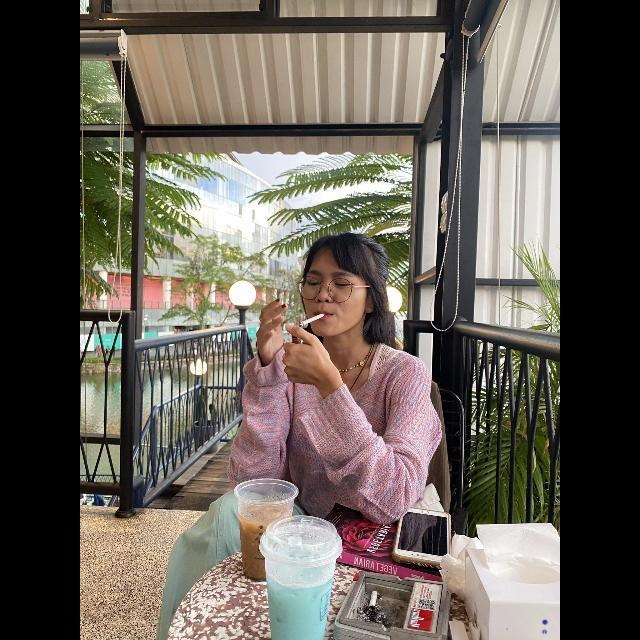rokok: (299, 310, 333, 334)
